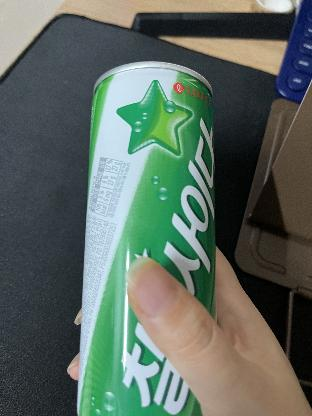Can: (76, 61, 219, 414)
